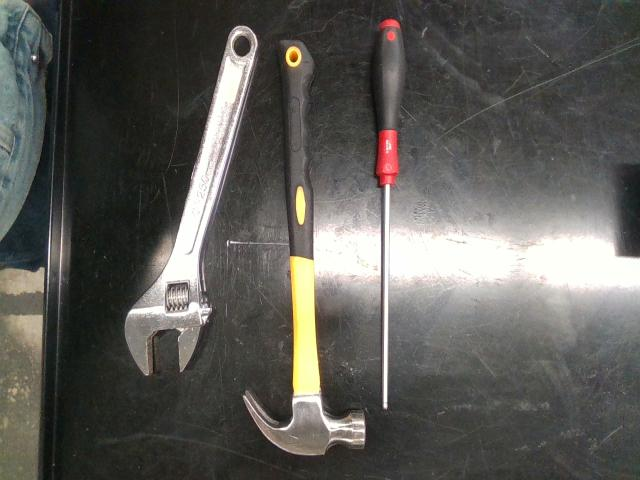Adjustable spanner: (125, 27, 258, 375)
Hammer: (244, 40, 365, 455)
Screwdriver: (372, 18, 405, 409)
